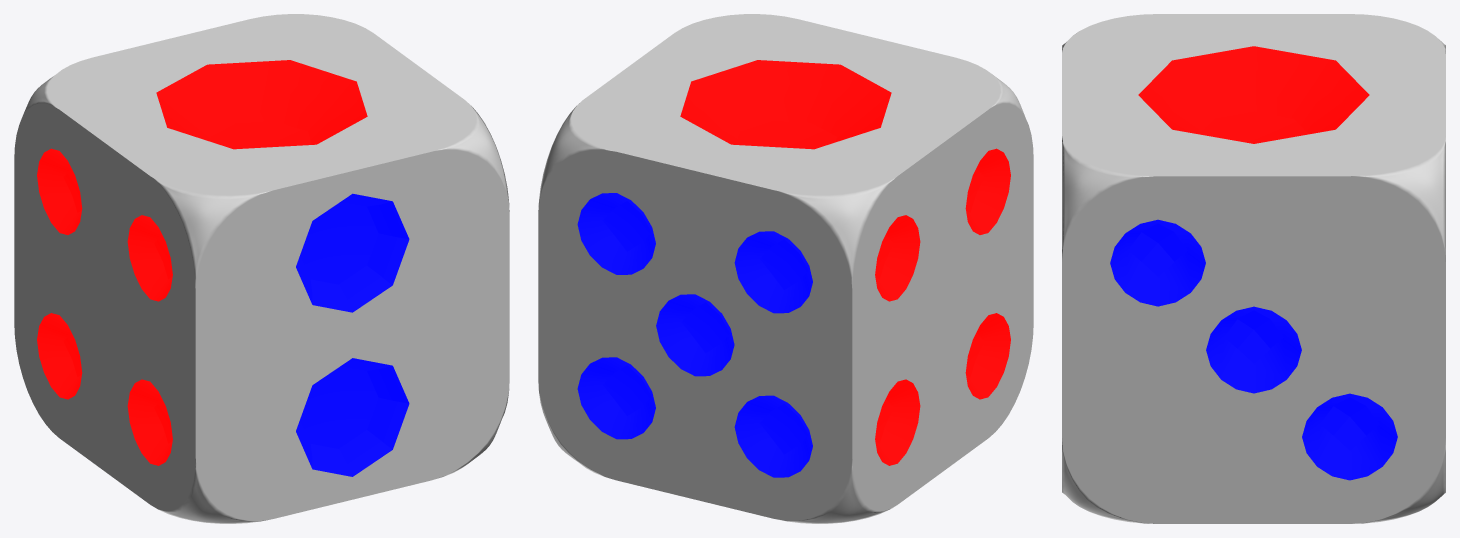
The model's file is WahahaDice.fbx.
3 views of the same model, side by side, from view 1: azimuth 30°, elevation 25°; view 2: azimuth 150°, elevation 25°; view 3: azimuth 270°, elevation 25° (orthographic). The views are drawn at different scales.
Parts seen in each view (by area): view 1: WahahaDice; view 2: WahahaDice; view 3: WahahaDice.
Part boxes in pixels (left/top/right/bottom): WahahaDice: left=14, top=14, right=509, bottom=523; WahahaDice: left=538, top=14, right=1033, bottom=523; WahahaDice: left=1062, top=14, right=1445, bottom=523.
Bounding box in the file's own units: 200 × 200 × 200.
